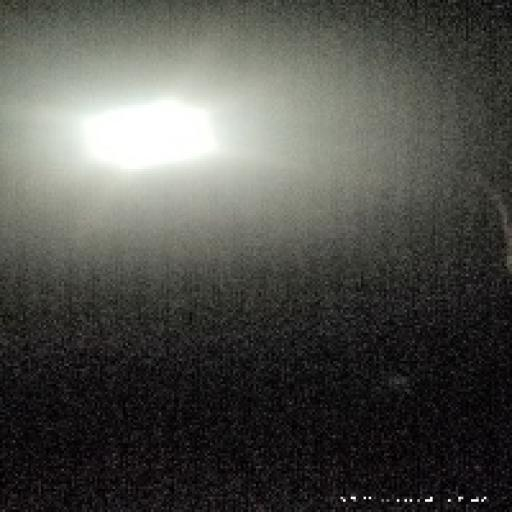Working: (62, 82, 242, 187)
